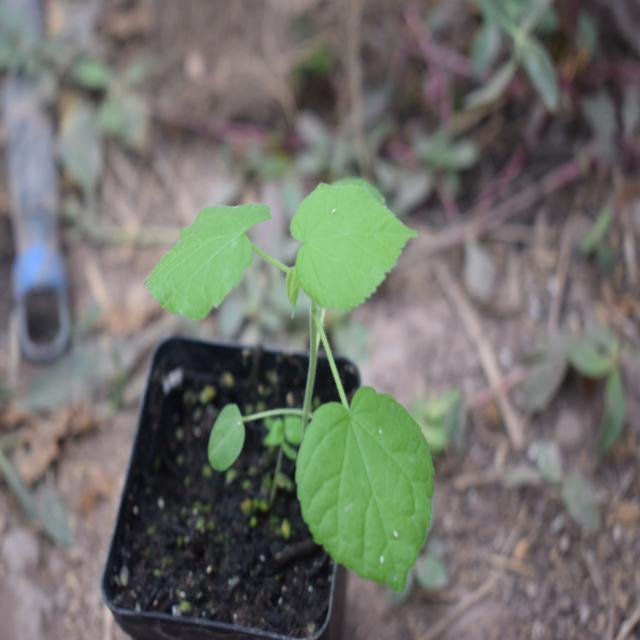abutilon theophrasti: (145, 150, 474, 560)
